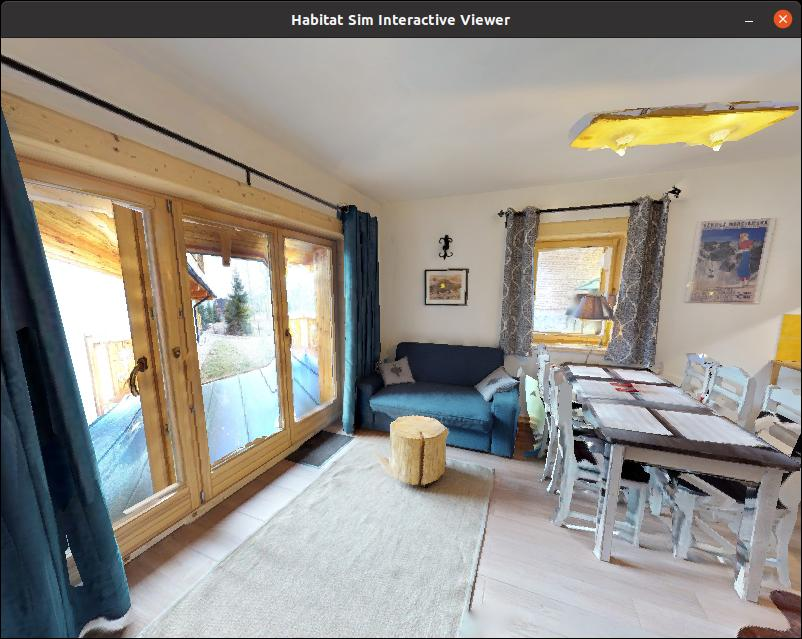chair: (643, 368, 802, 561), (545, 357, 629, 560)
sofa: (365, 341, 539, 463)
table: (551, 339, 790, 591)
